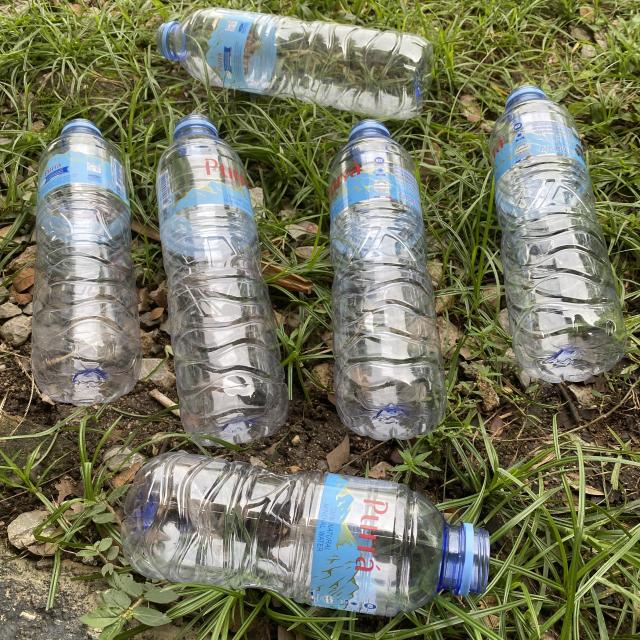plastik: (121, 452, 490, 616), (156, 115, 289, 445), (490, 85, 626, 382), (329, 119, 446, 440), (31, 119, 141, 406), (156, 8, 432, 119)
